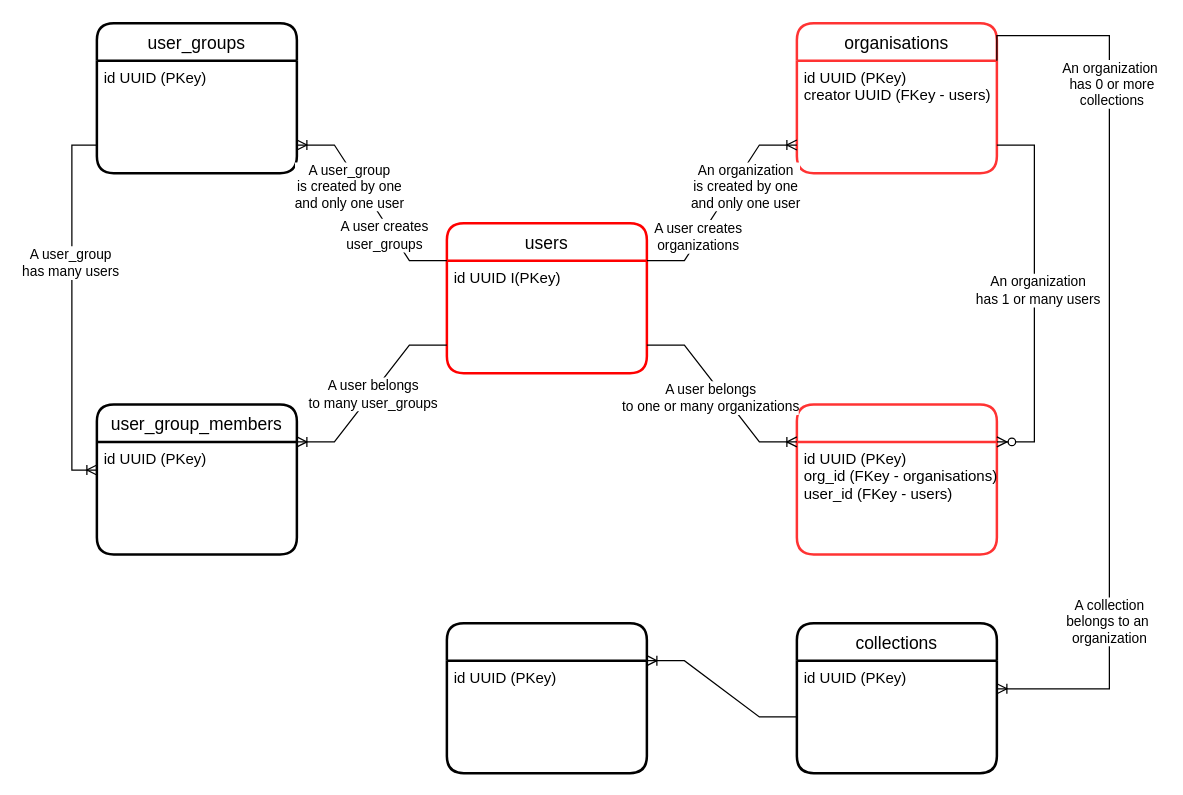
Some shapes in this 1183 by 795 pixel diagram are drawn without their labels. The shapes that lost their labels are listed below. From the top down, each one's box as (x1, y1, x2, y2) in pixels, then its label:
(795, 402, 998, 555): organisation_users
(445, 621, 648, 774): shortcuts
